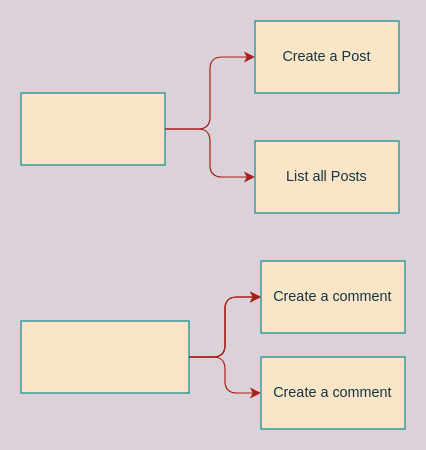
Image size: 426x450. Some labels were removed from this diagram. Each missing label, with the centre of its shape:
"Comments" goes at [104,356].
"Posts" goes at [92,128].
